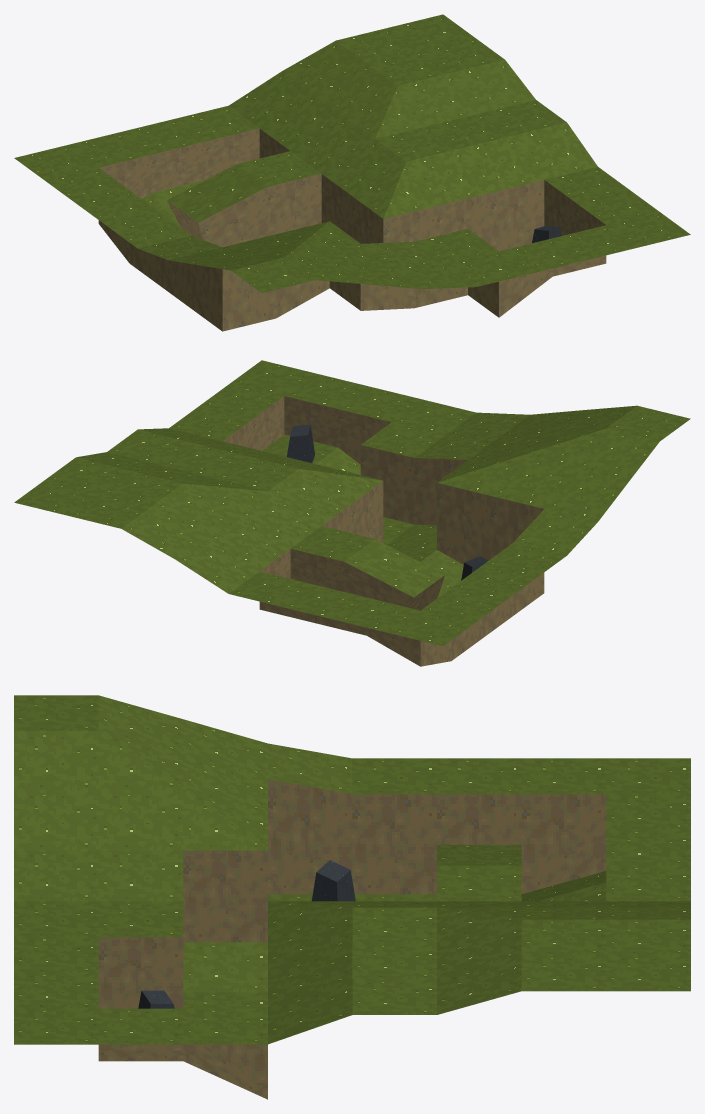
Rendered from map2.obj.
The picture shows the model from 3 angles, top to bottom: view 1: azimuth 30°, elevation 25°; view 2: azimuth 150°, elevation 25°; view 3: azimuth 270°, elevation 25°; orthographic projection. The views are drawn at different scales.
Bounding box in the file's own units: 1024 × 279 × 1024.
Materials: 3 (3 with a texture image).
